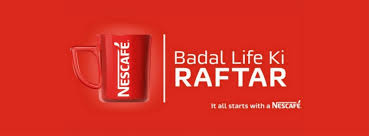nescafe-mug: (69, 30, 154, 106)
